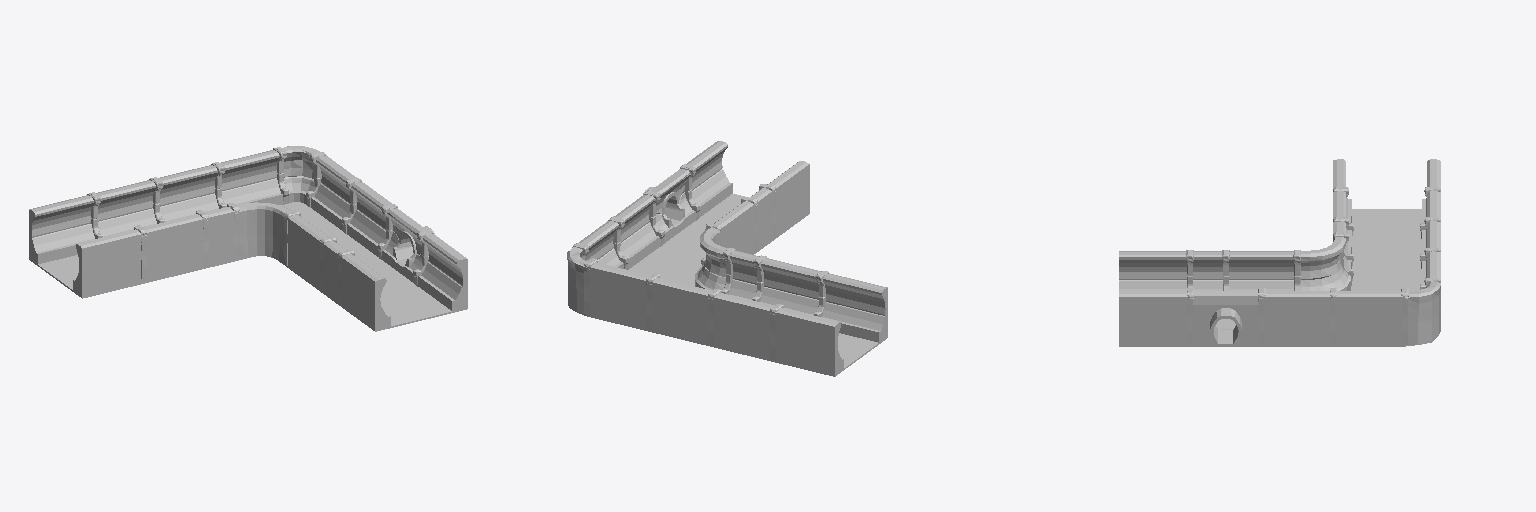
File: DungeonRoom_03.obj
3 views of the same model, side by side, from view 1: azimuth 30°, elevation 25°; view 2: azimuth 150°, elevation 25°; view 3: azimuth 270°, elevation 25° (orthographic).
Visible parts, largest first — view 1: DungeonRoom_03; view 2: DungeonRoom_03; view 3: DungeonRoom_03.
Boxes of the visible parts, box(x1,y1,x2,y2) form: DungeonRoom_03: box(29, 146, 467, 331); DungeonRoom_03: box(567, 141, 887, 376); DungeonRoom_03: box(1119, 159, 1440, 346).
Bounding box in the file's own units: 38 × 6.51 × 36.08.